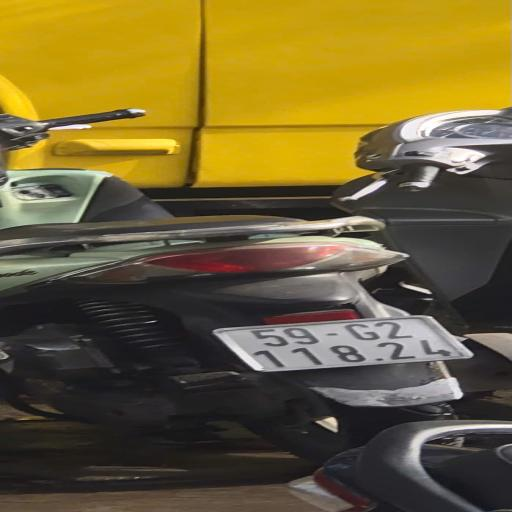1: (279, 344, 339, 375), (235, 346, 298, 369)
2: (374, 316, 433, 343), (367, 342, 430, 362)
4: (403, 336, 477, 363)
5: (227, 322, 292, 350)
8: (330, 343, 383, 367)
9: (286, 324, 324, 345)
G: (337, 316, 383, 342)
